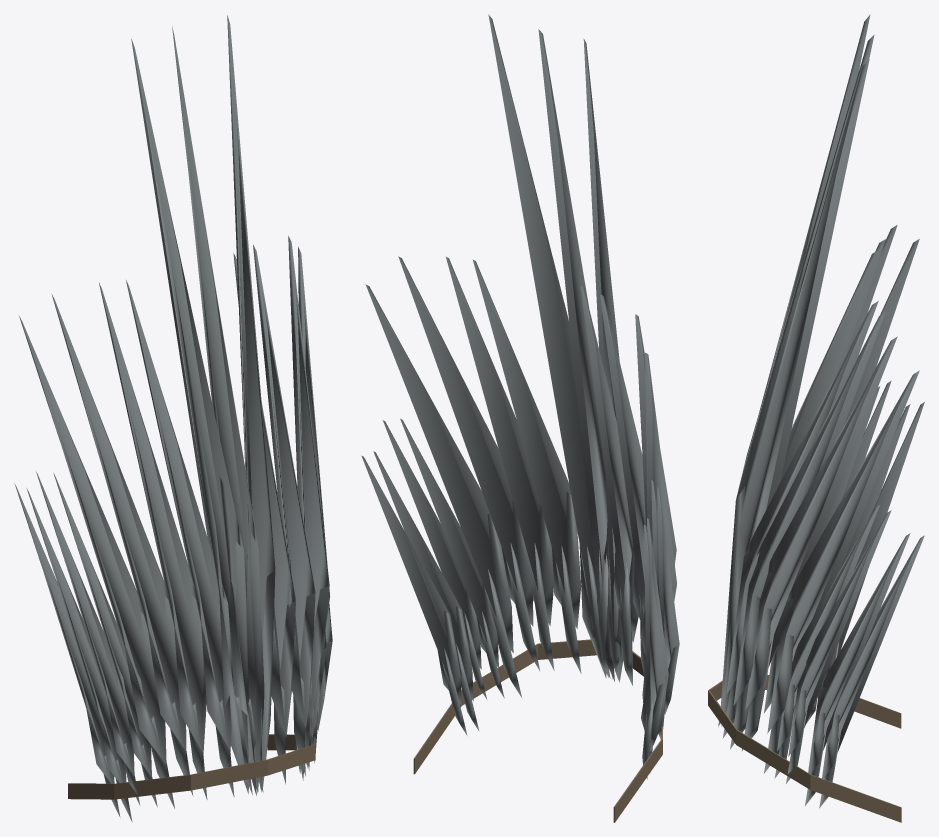
Rendered from cocar_1.dae.
3 renders of one model, left to right at view 1: azimuth 30°, elevation 25°; view 2: azimuth 150°, elevation 25°; view 3: azimuth 270°, elevation 25°, orthographic. The views are drawn at different scales.
Visible parts, largest first — view 1: cocar.003; view 2: cocar.003; view 3: cocar.003.
Boxes of the visible parts, bbox=[...] form: cocar.003: bbox=[14, 15, 332, 822]; cocar.003: bbox=[361, 14, 679, 822]; cocar.003: bbox=[708, 14, 924, 822].
Size of the model in its own units: 0.5963 by 0.4099 by 1.54.
